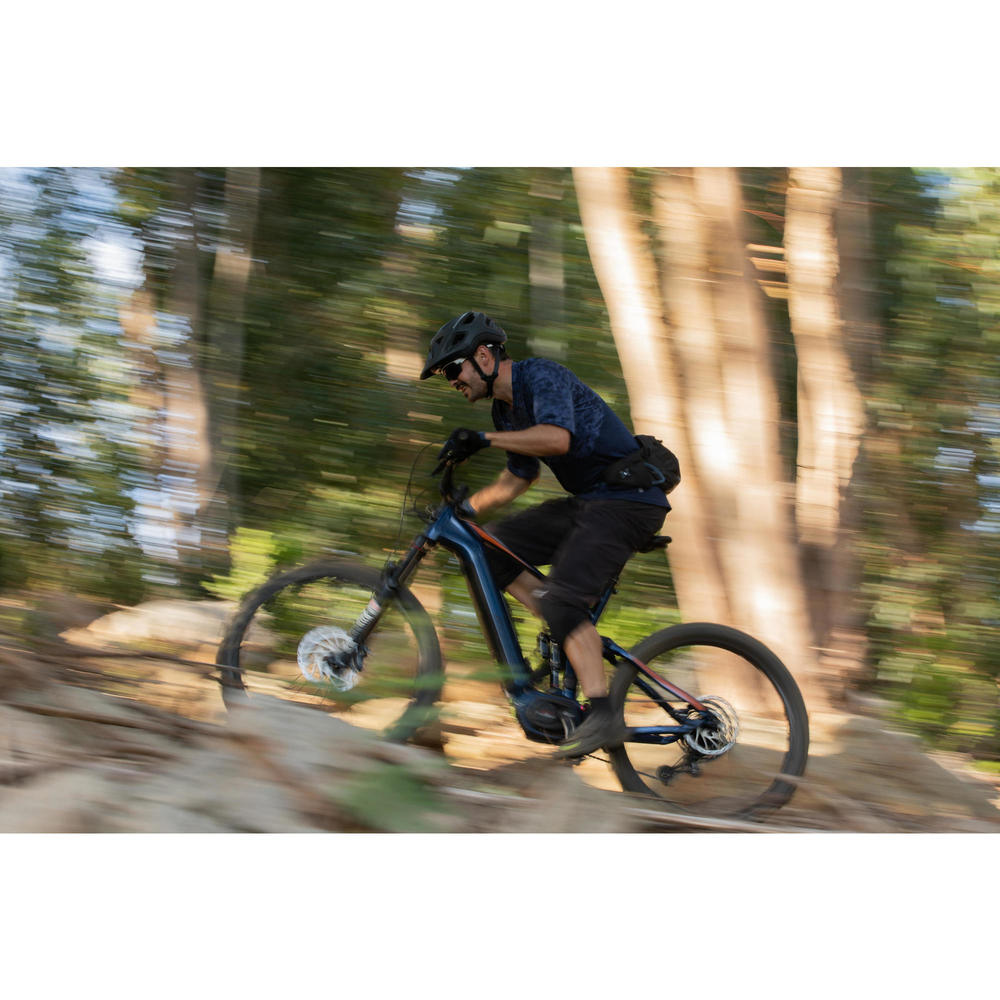MountainBike: (214, 482, 806, 798)
